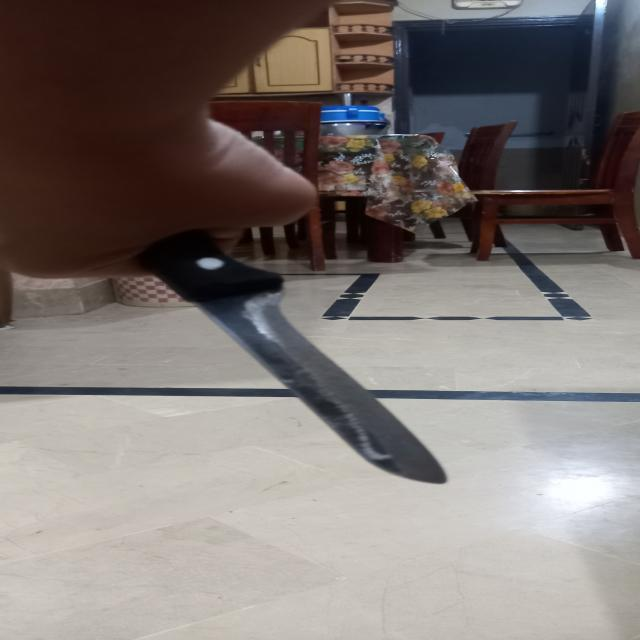Knife: (133, 231, 456, 489)
